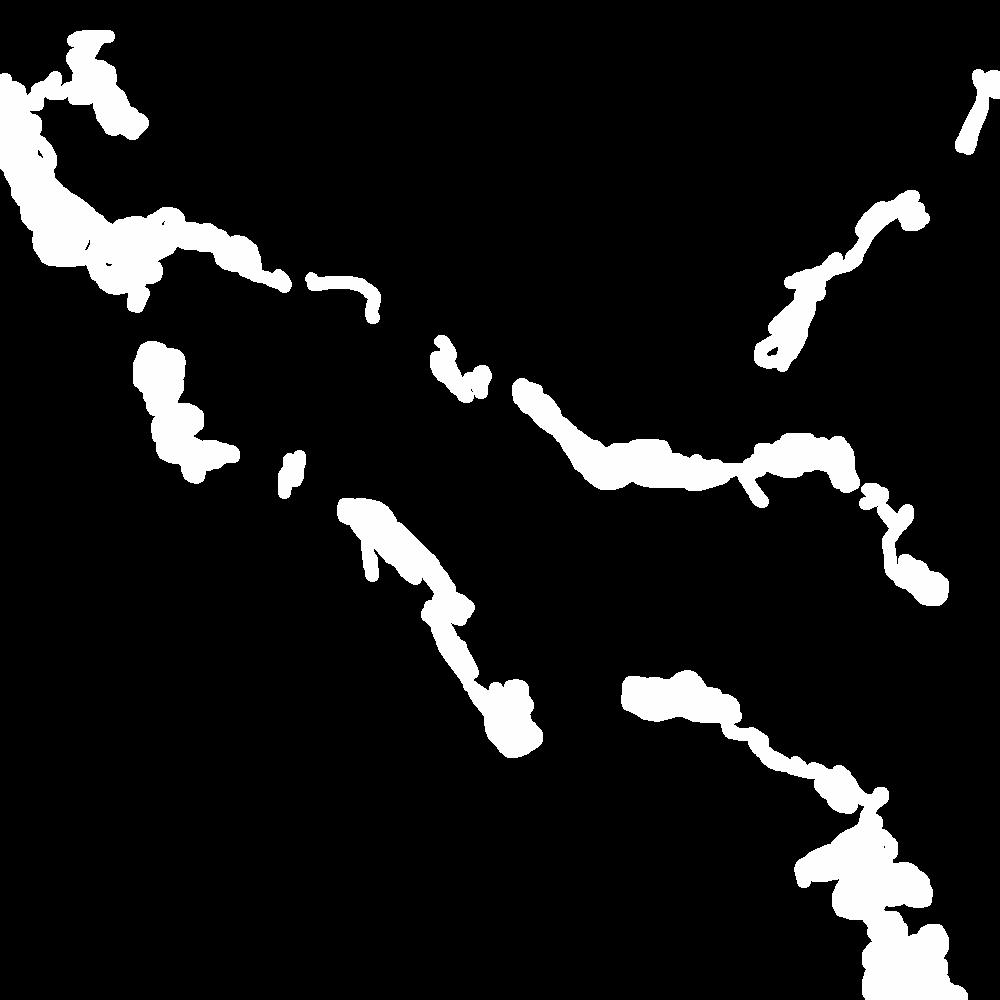illegal: (433, 339, 958, 606), (1, 9, 297, 308), (335, 489, 545, 764), (801, 761, 968, 1000), (741, 191, 925, 404), (124, 340, 256, 480), (615, 665, 745, 737), (941, 62, 1000, 185), (745, 720, 824, 787), (345, 269, 396, 335), (270, 458, 302, 498)
